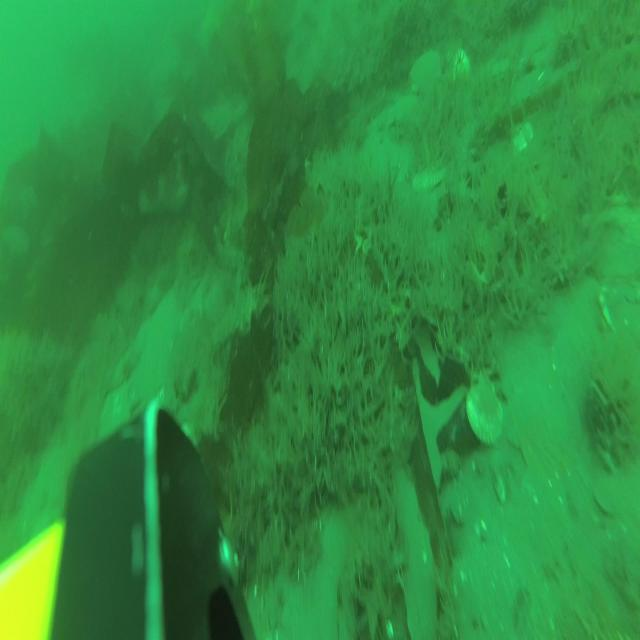scallop: (464, 374, 505, 444), (408, 52, 446, 98), (508, 118, 532, 160), (412, 165, 446, 194), (446, 44, 471, 82), (388, 95, 414, 125)
